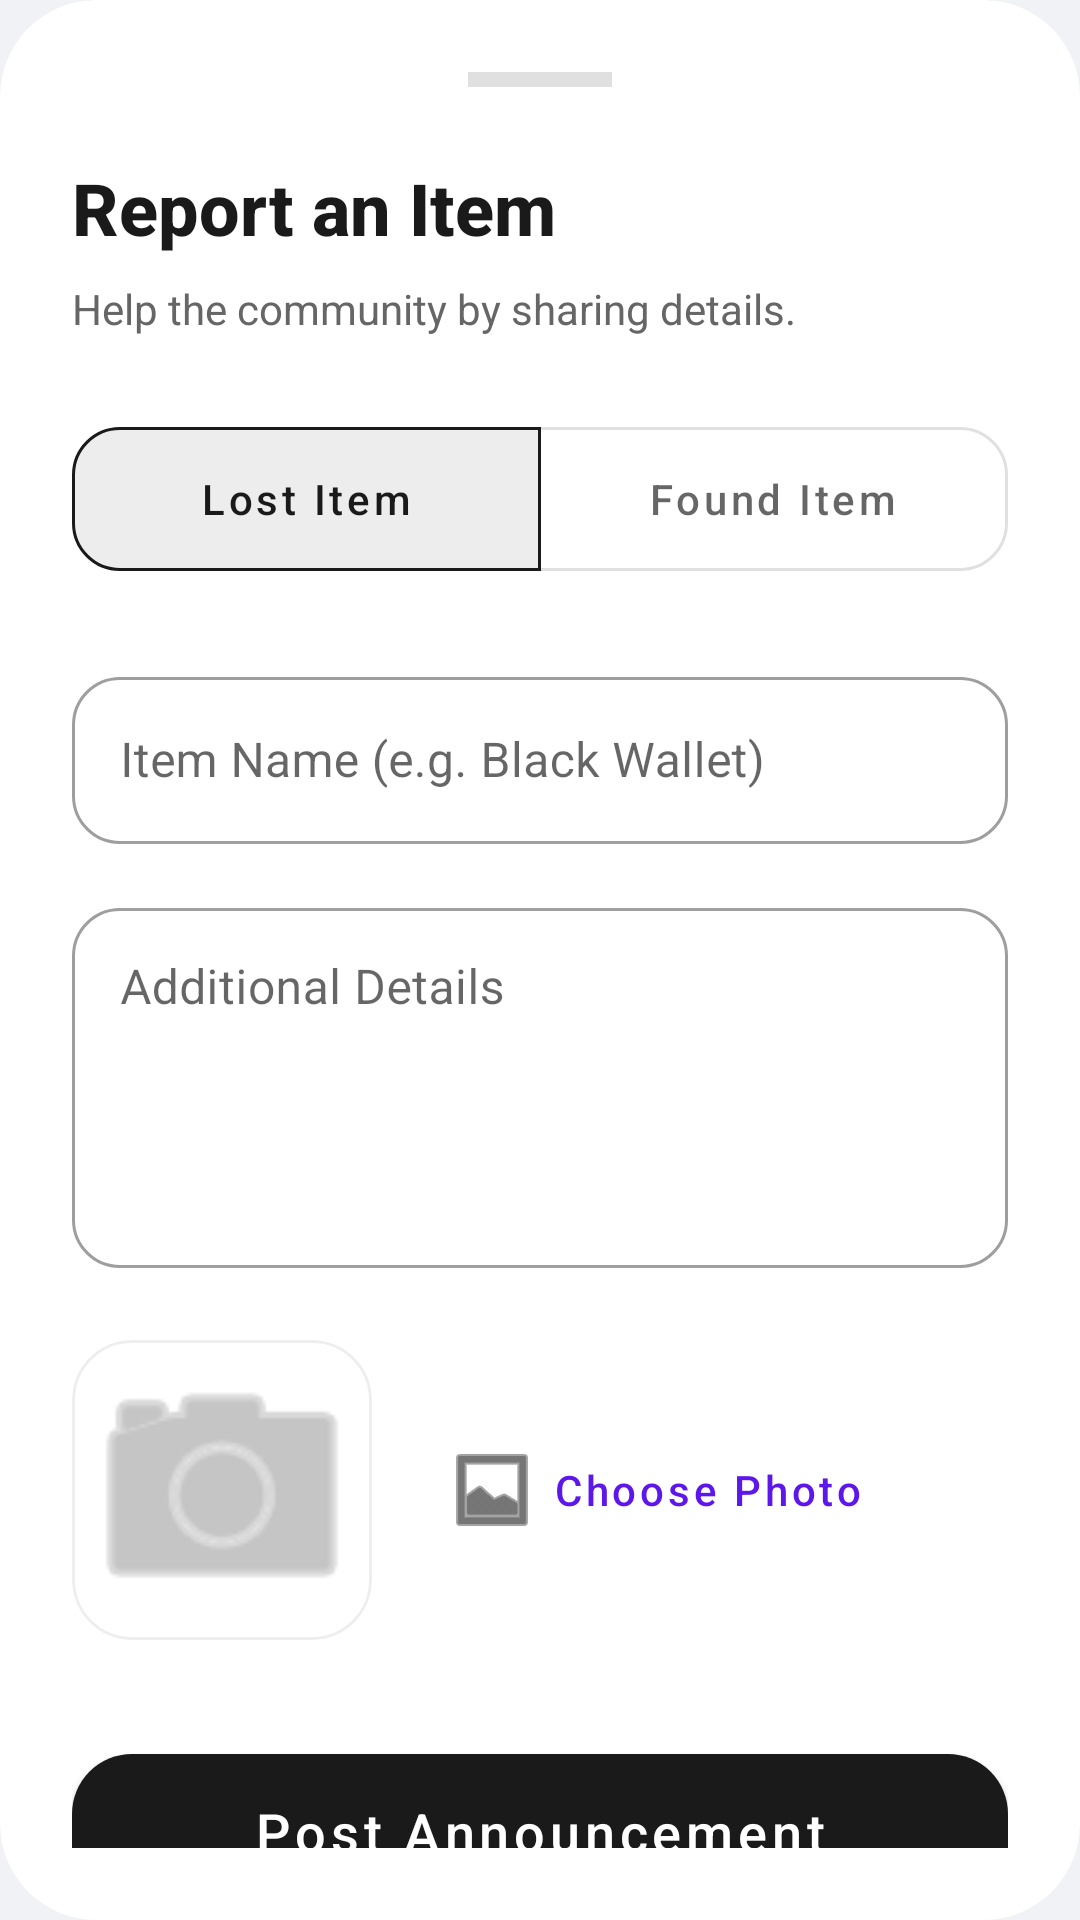

Screen size 1080px×1920px. Icon name, then its center in pixels as (x=x, y=y):
camera: (x=222, y=1485)
